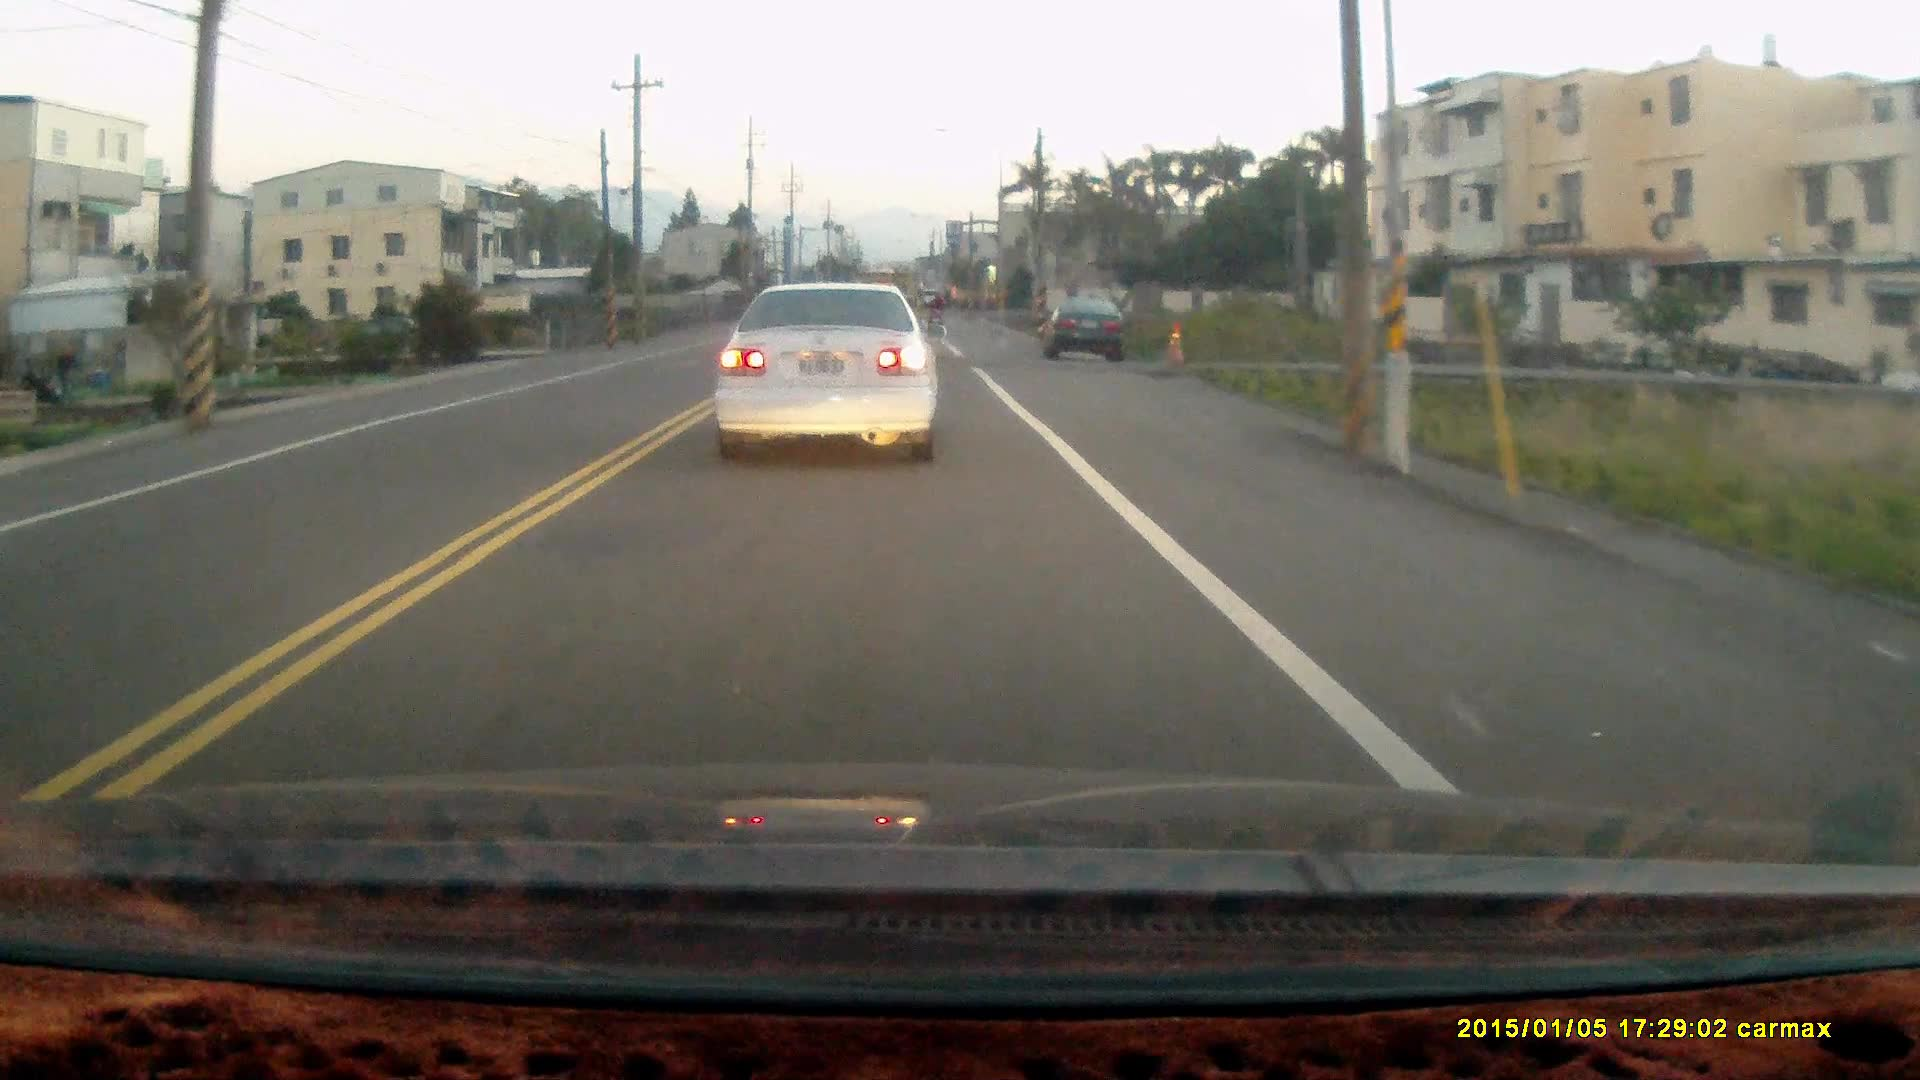pedestrian: (53, 337, 79, 403)
vehicle: (710, 279, 944, 470), (1041, 295, 1128, 364)
